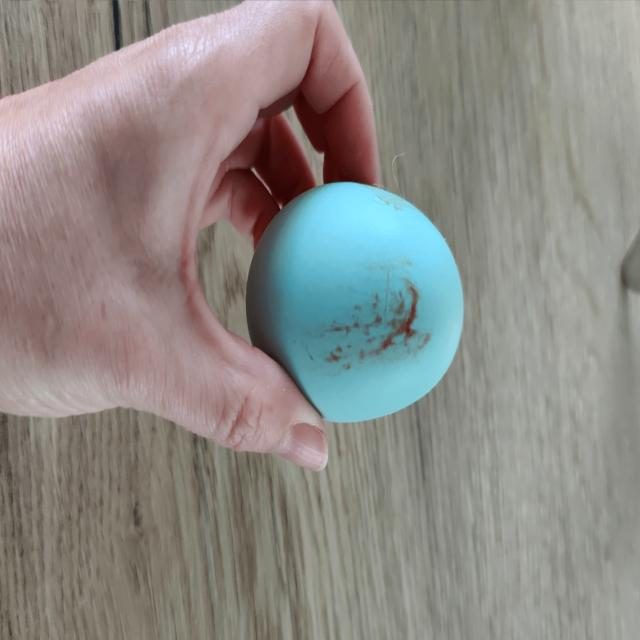Blood Stained Egg: (241, 176, 470, 424)
